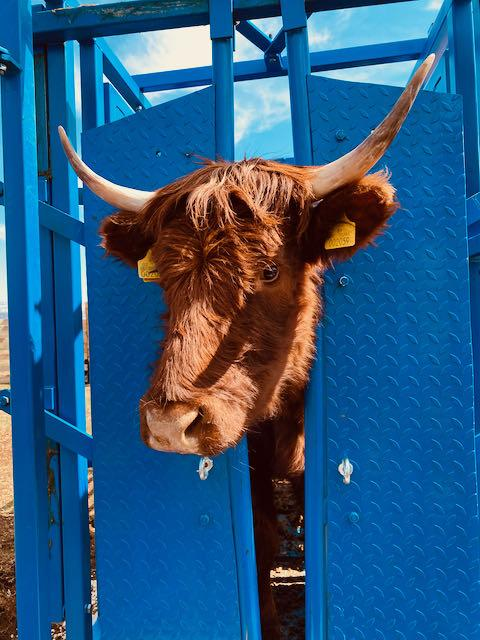muzzles: (128, 398, 228, 464)
